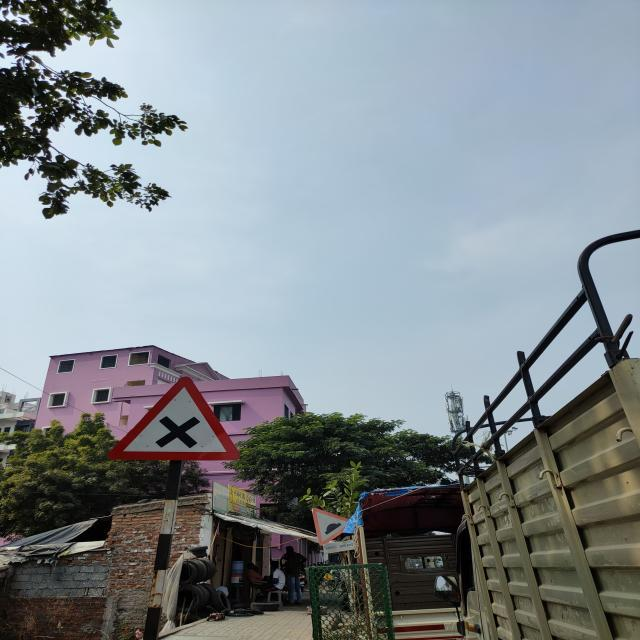cross road: (110, 376, 240, 463)
